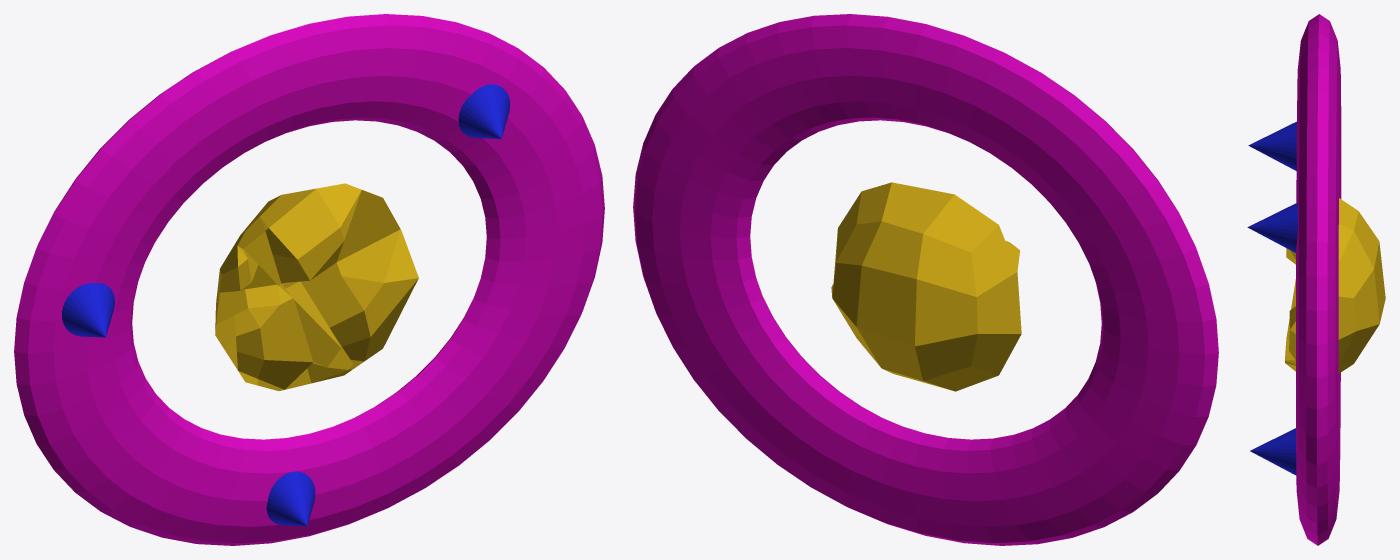
The model's file is BombSpiralRight.fbx.
3 renders of one model, left to right at view 1: azimuth 30°, elevation 25°; view 2: azimuth 150°, elevation 25°; view 3: azimuth 270°, elevation 25°, orthographic. The views are drawn at different scales.
Visible parts, largest first — view 1: Torus, Sphere.001, Cone.002; view 2: Torus, Sphere.001; view 3: Torus, Sphere.001, Cone.002.
Part boxes in pixels (left/top/right/bottom): Torus: left=14, top=14, right=604, bottom=545; Sphere.001: left=215, top=183, right=418, bottom=390; Cone.002: left=62, top=84, right=509, bottom=526; Torus: left=633, top=14, right=1218, bottom=545; Sphere.001: left=831, top=182, right=1021, bottom=391; Torus: left=1296, top=14, right=1341, bottom=545; Sphere.001: left=1284, top=198, right=1385, bottom=373; Cone.002: left=1247, top=121, right=1297, bottom=475.
Size of the model in its own units: 602 by 501 by 136.
